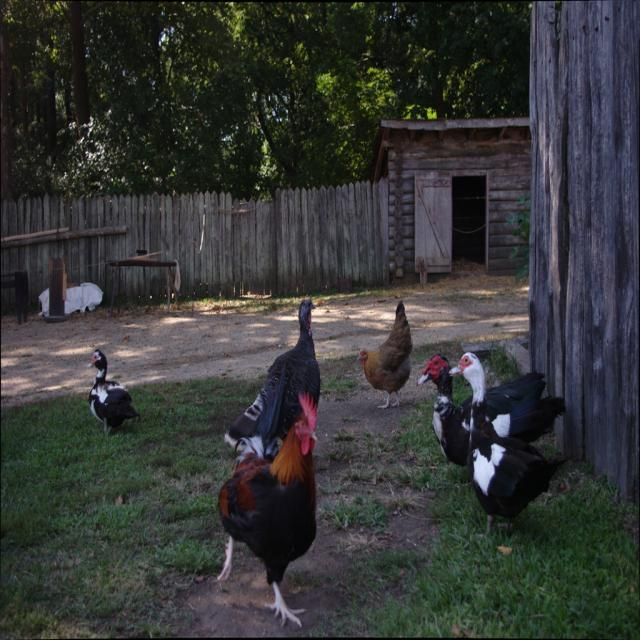Chicken: (215, 394, 321, 620), (352, 298, 417, 416)
